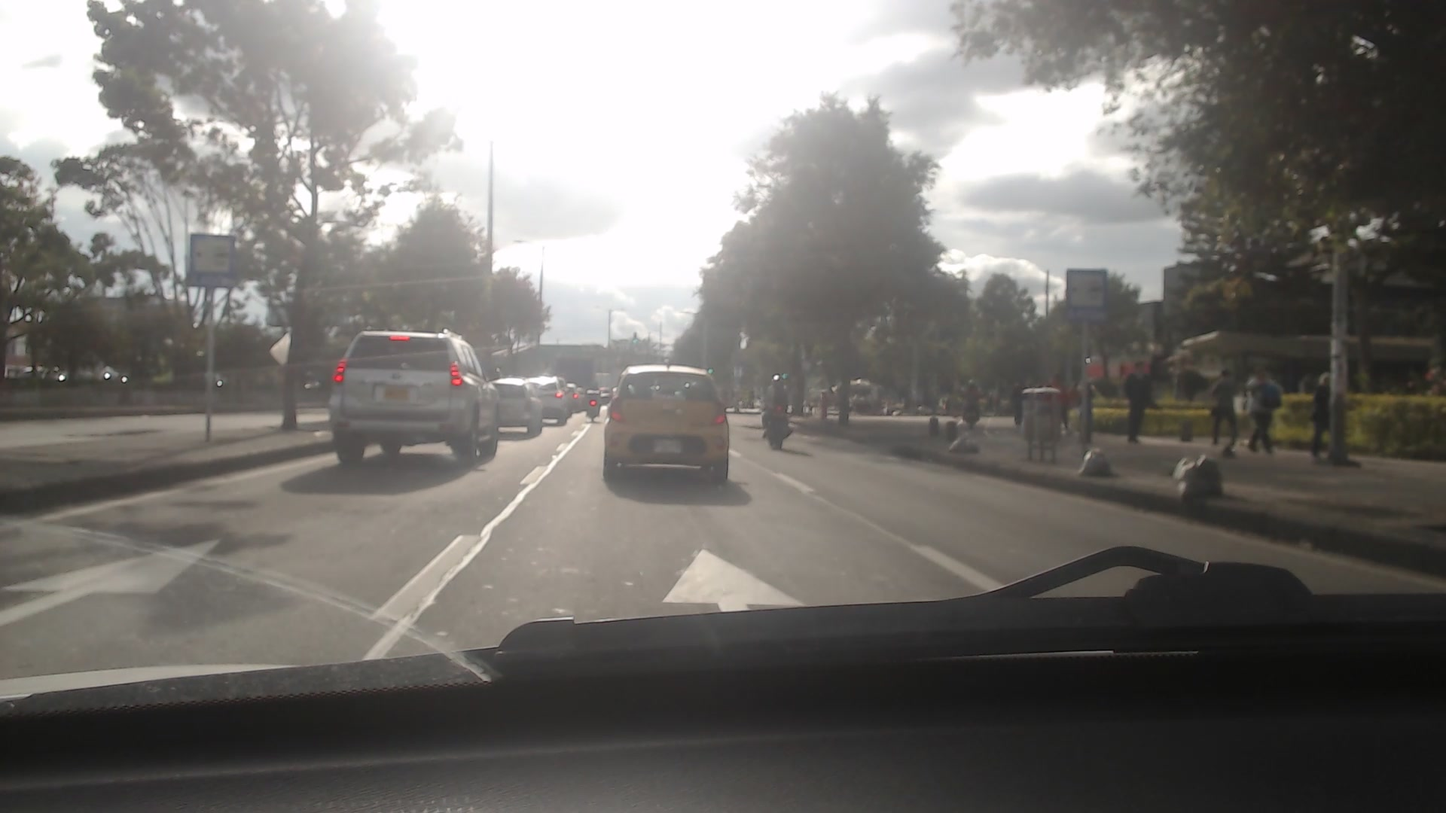car: (325, 331, 508, 456), (599, 365, 738, 476), (474, 373, 551, 434), (524, 372, 571, 420)
motorcycle: (760, 403, 801, 444)
person: (1244, 371, 1280, 458), (1211, 368, 1242, 453), (1305, 374, 1334, 457), (1125, 361, 1149, 443), (764, 375, 789, 430)
